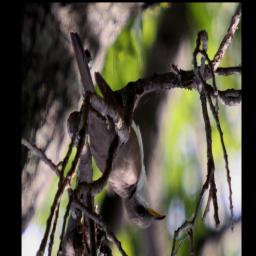Cuckoo: (70, 25, 168, 234)
